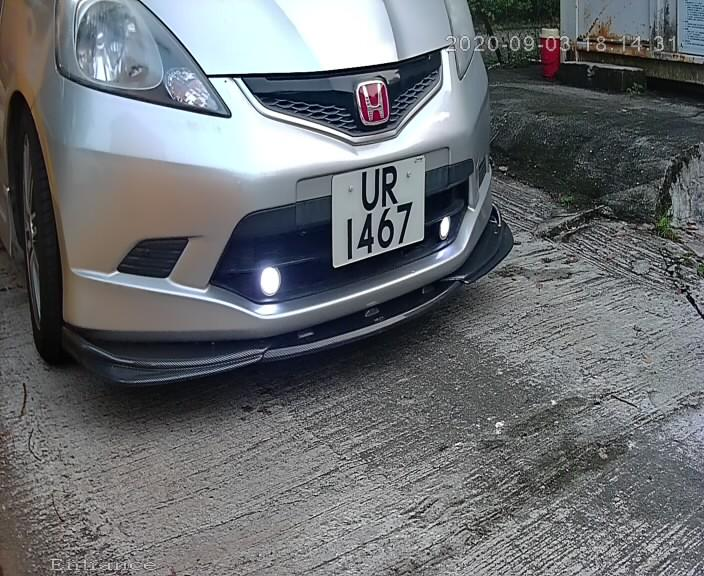License Plate: (324, 145, 434, 278)
